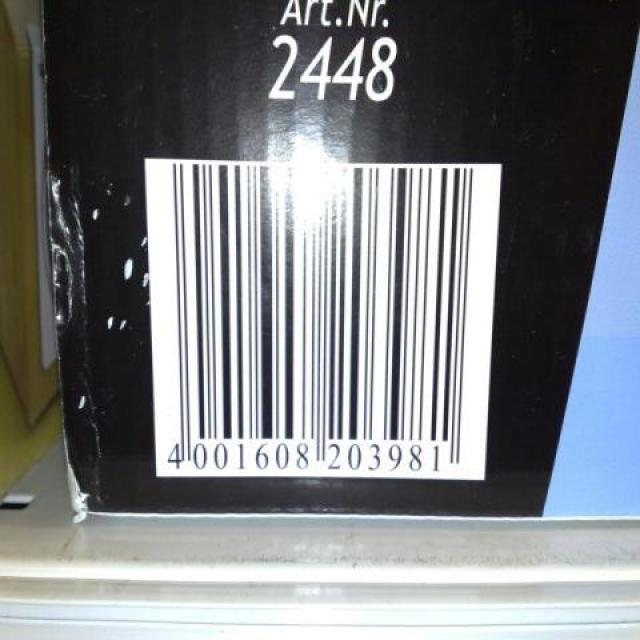Barcode: (143, 156, 501, 480)
